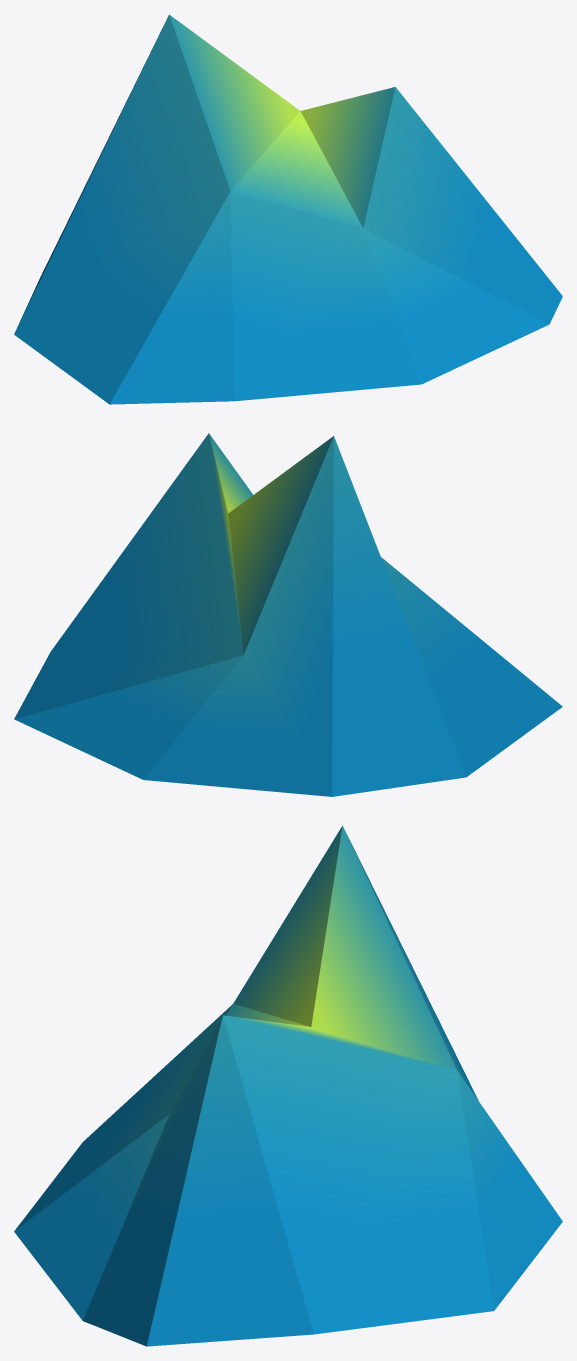
The model's file is SM_Rock_B_02.fbx.
3 views of the same model, one above another, from view 1: azimuth 30°, elevation 25°; view 2: azimuth 150°, elevation 25°; view 3: azimuth 270°, elevation 25° (orthographic). The views are drawn at different scales.
Visible parts, largest first — view 1: Rock_Type2_Varient2; view 2: Rock_Type2_Varient2; view 3: Rock_Type2_Varient2.
Part boxes in pixels (left/top/right/bottom): Rock_Type2_Varient2: left=14, top=14, right=562, bottom=404; Rock_Type2_Varient2: left=14, top=433, right=562, bottom=796; Rock_Type2_Varient2: left=14, top=826, right=562, bottom=1346.
Size of the model in its own units: 112 by 125 by 77.78.
